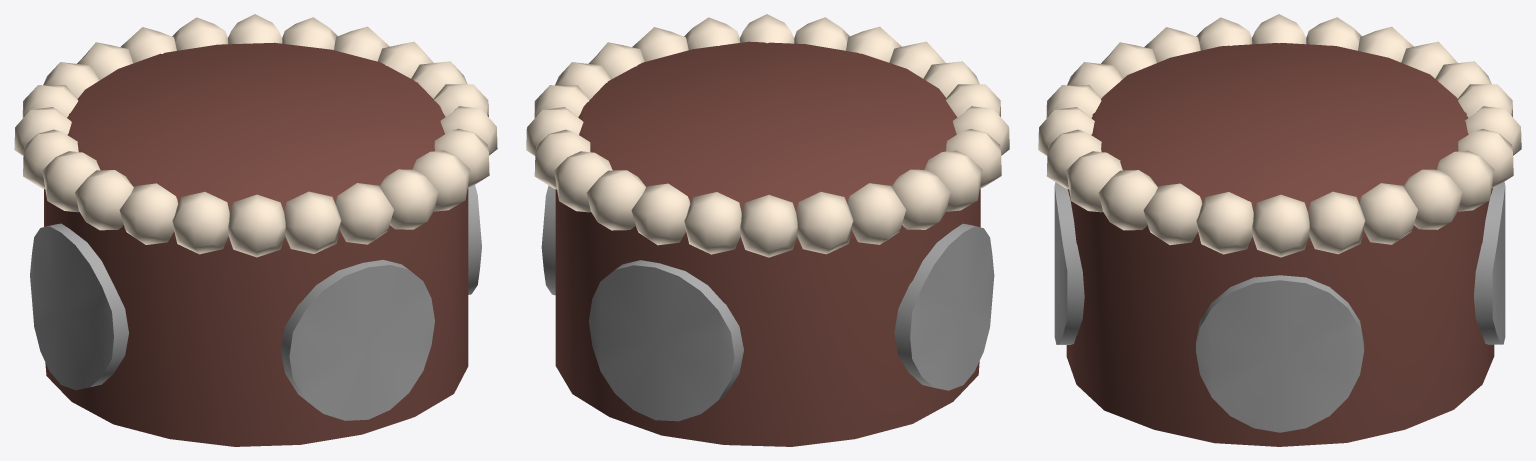
File: SM_mod.fbx
The picture shows the model from 3 angles, left to right: view 1: azimuth 30°, elevation 25°; view 2: azimuth 150°, elevation 25°; view 3: azimuth 270°, elevation 25°; orthographic projection.
Visible parts, largest first — view 1: SM_mod; view 2: SM_mod; view 3: SM_mod.
Part boxes in pixels (bbox=[...]): SM_mod: bbox=[14, 14, 497, 446]; SM_mod: bbox=[526, 14, 1009, 446]; SM_mod: bbox=[1038, 14, 1521, 446].
Bounding box in the file's own units: 211 × 119 × 211.
2 materials, 1 textured.
